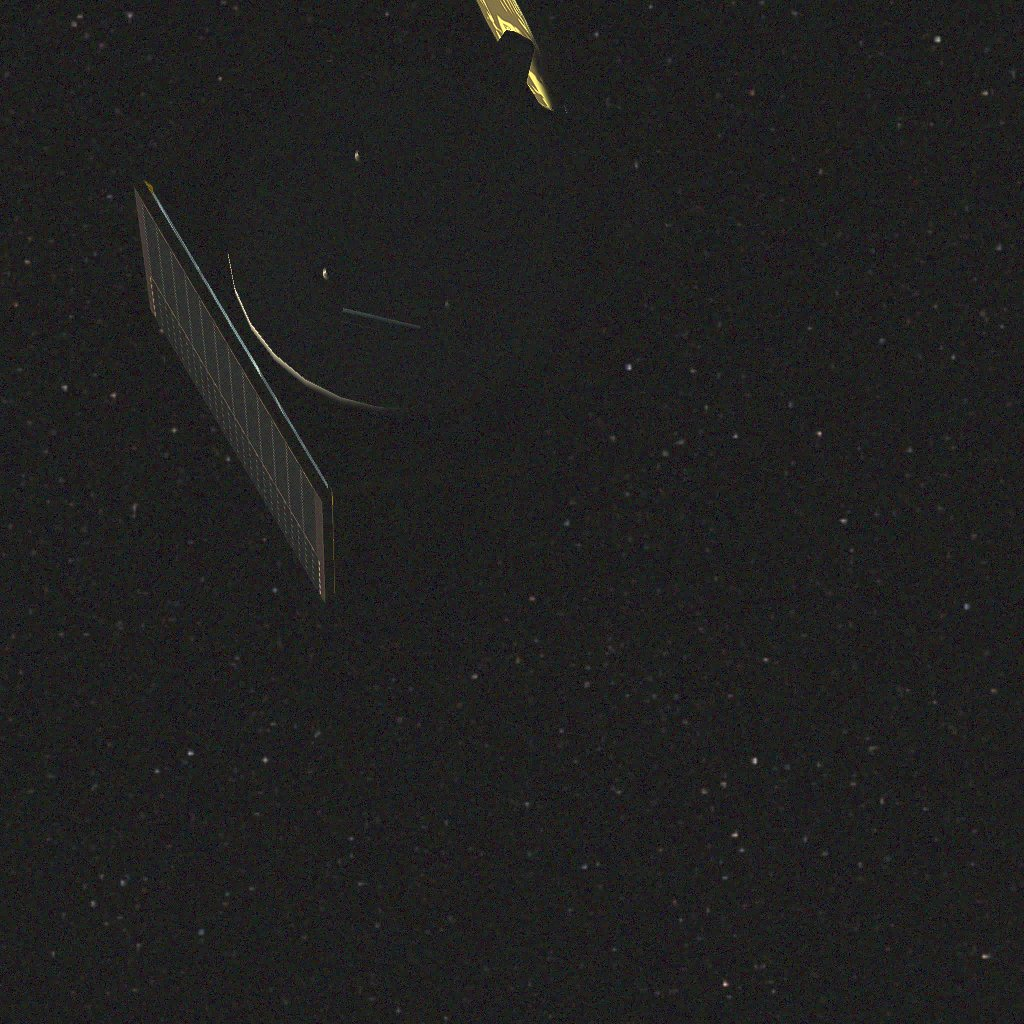cheops: (134, 0, 682, 604)
